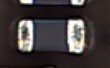COMP: (11, 15, 90, 56)
GAP: (18, 1, 85, 35)
